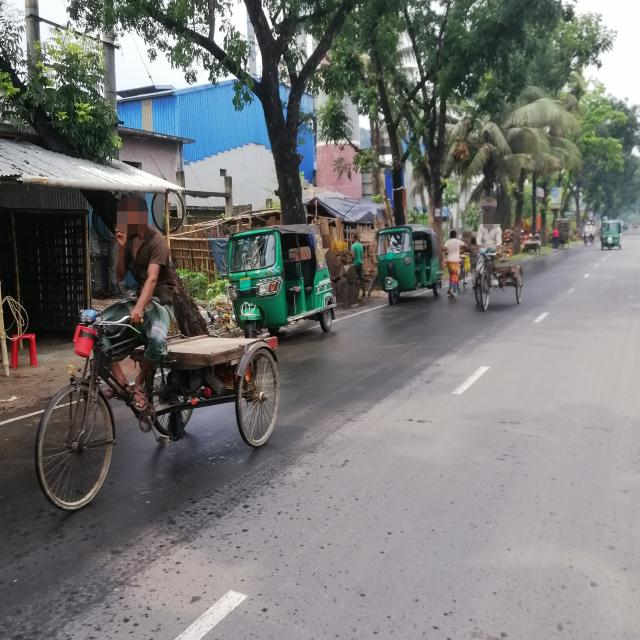Van: (28, 290, 293, 509)
